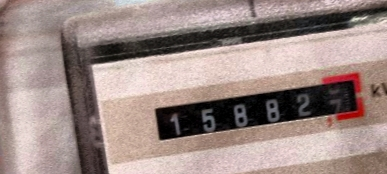1: (166, 107, 183, 138)
2: (292, 90, 313, 118)
5: (197, 104, 218, 136)
7: (326, 95, 341, 114)
8: (229, 100, 249, 130), (262, 95, 281, 125)
screen: (140, 63, 372, 154)
